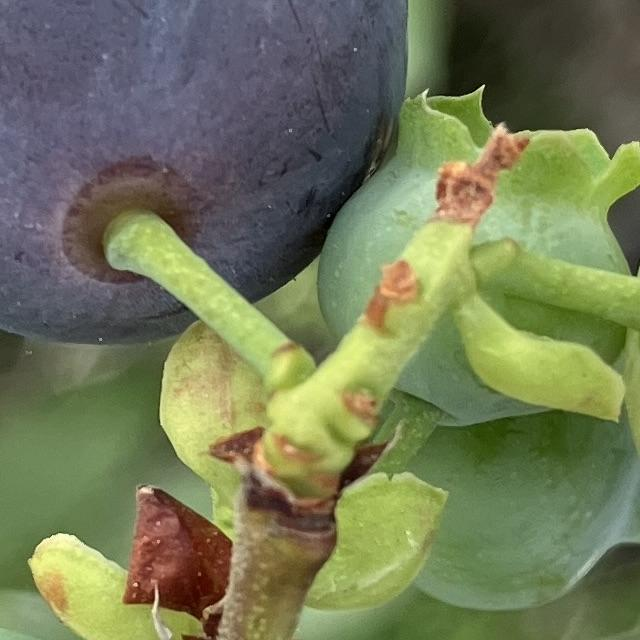Blueberries: (0, 0, 410, 349)
